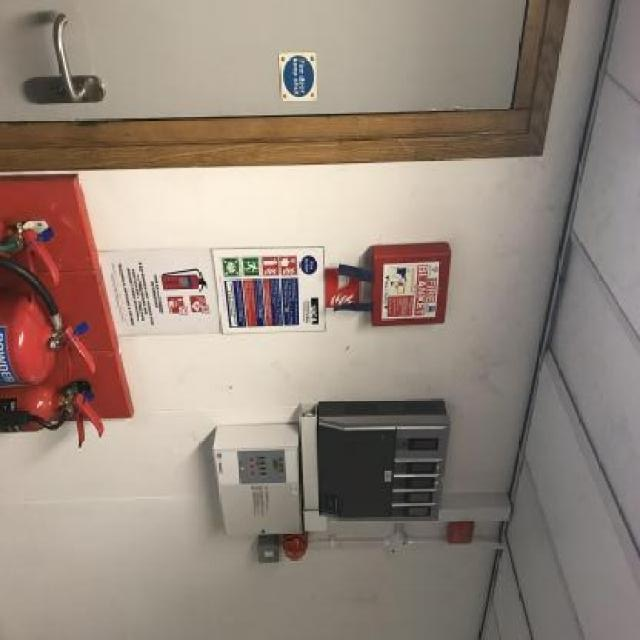fire extinguisher: (0, 252, 97, 390), (0, 381, 105, 448)
